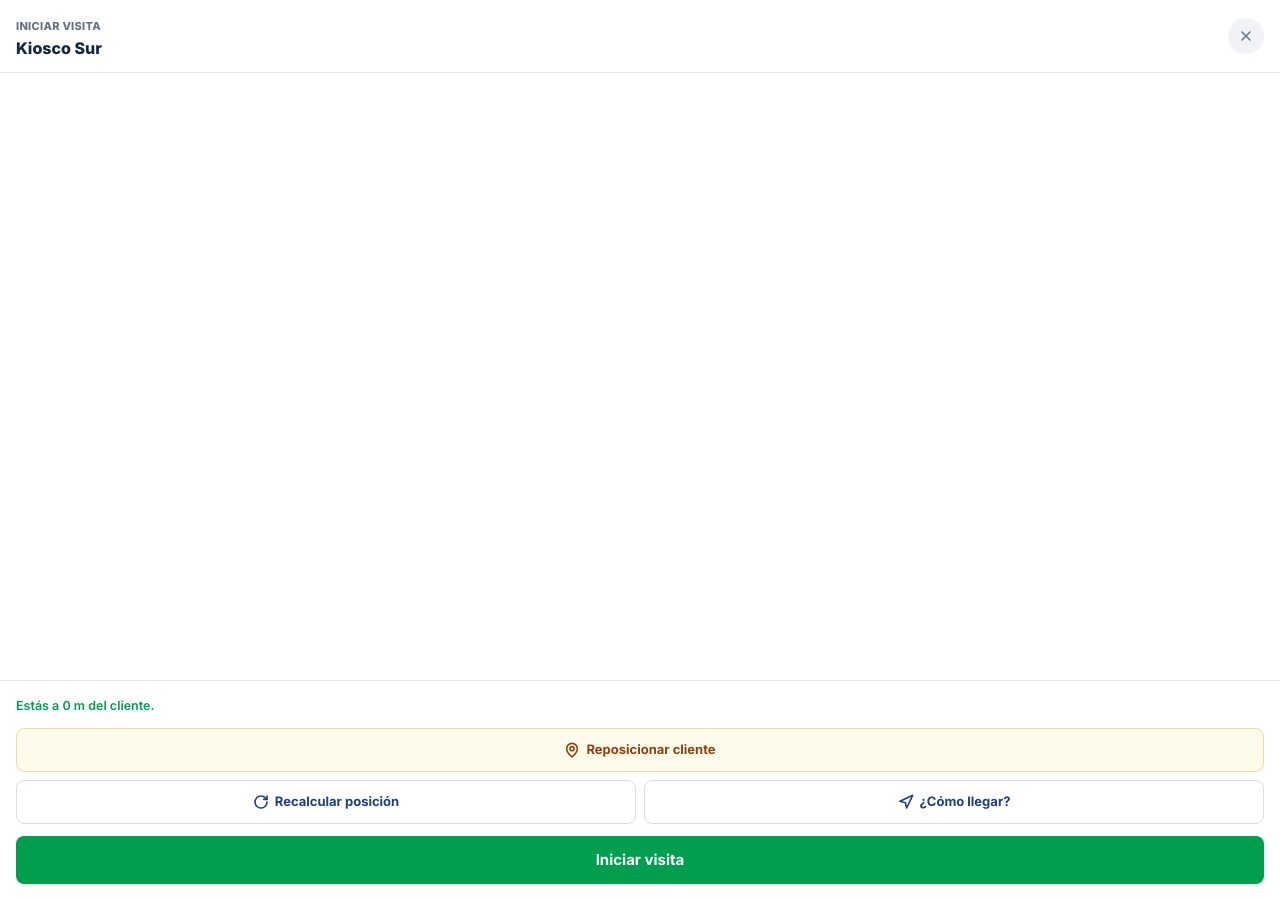
arma el modo reposicionar, deshabilita Iniciar visita, y Cancelar lo desarma sin mover nada
Expected: the button "Iniciar visita" is enabled, [16,836,1264,884]
Click the button "Reposicionar cliente". click: (640, 750)
box: [16,728,1264,772]
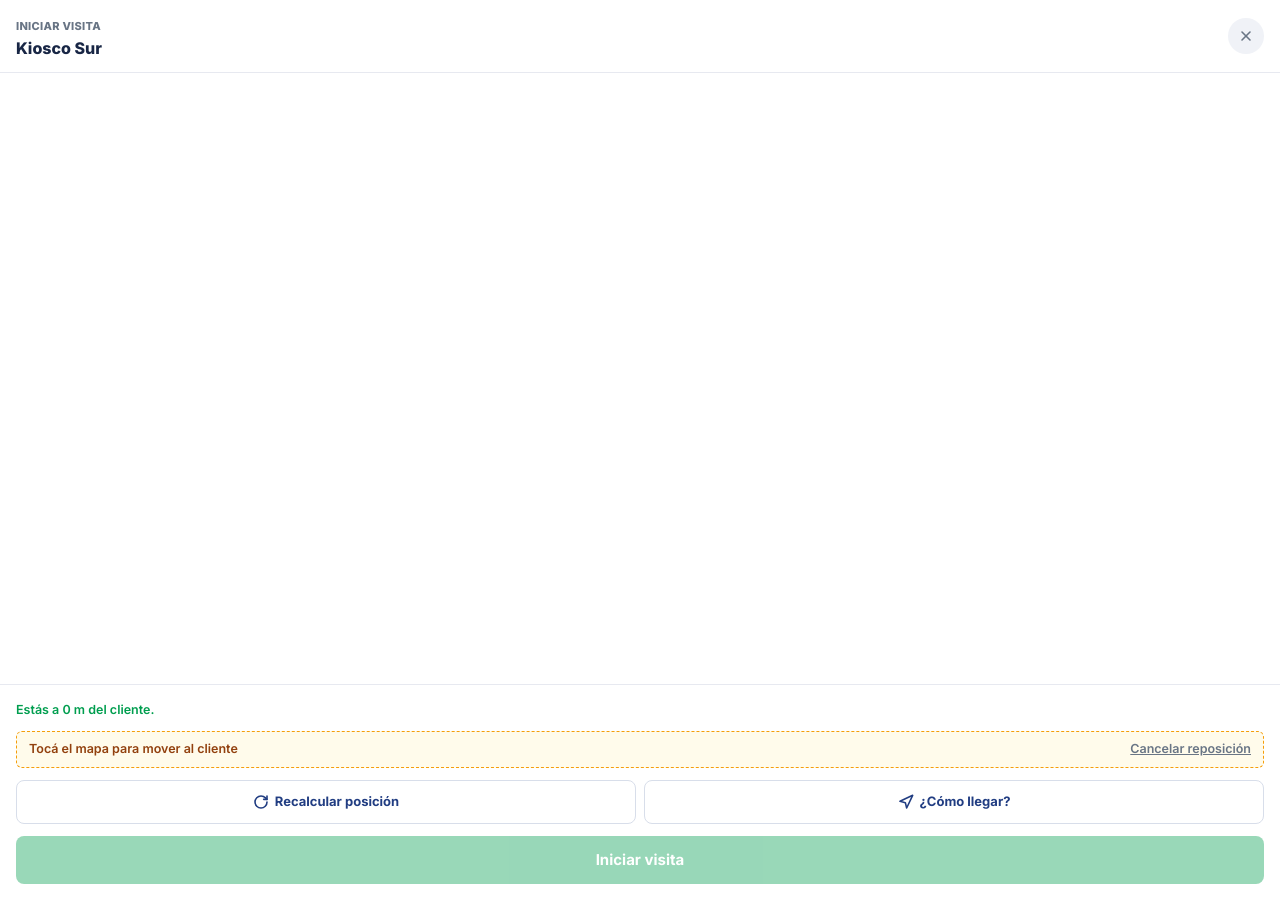
Result: the text "Tocá el mapa para mover al cliente" is shown at [29,740,238,759]
Result: the button "Iniciar visita" is disabled at [16,836,1264,884]
Click the button "Cancelar reposición". click: (1191, 750)
box: [1130,740,1251,759]
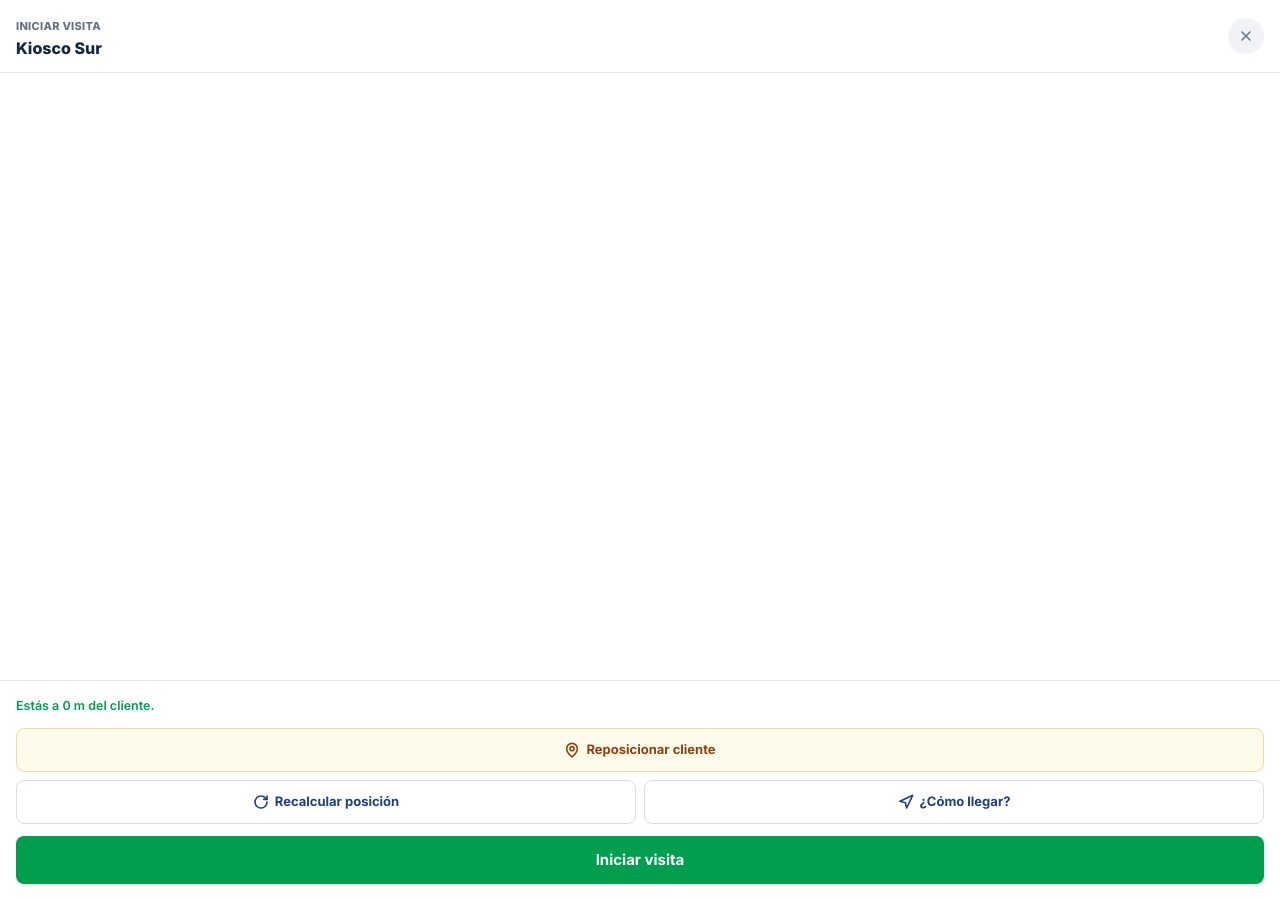
Result: the text "Tocá el mapa para mover al cliente" is gone
Result: the button "Iniciar visita" is enabled at [16,836,1264,884]
